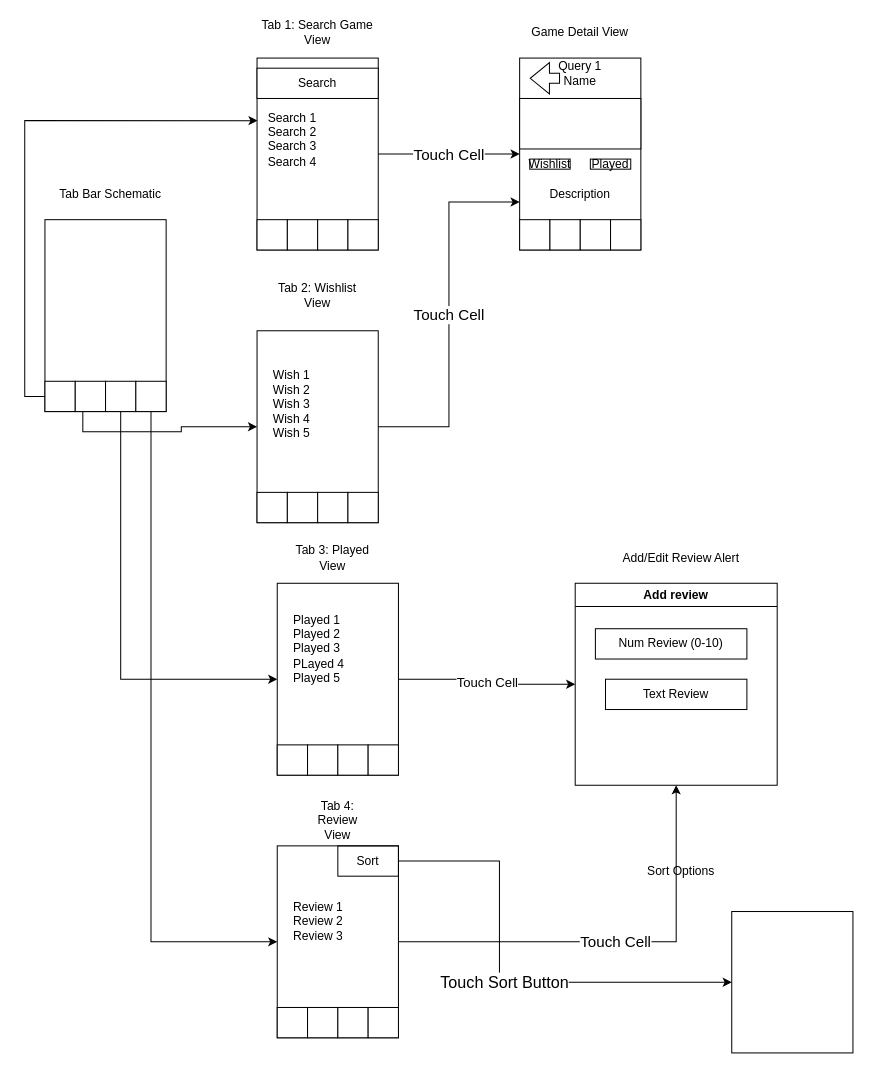
Image size: 871x1071. Some labels were removed from this diagram. Here are the shapes that lost their labels. From the top down, the centre of each, then its label:
At (580,123): "Cover".
At (792,982): "Alphabetical Rating Ascend Rating Decend".
